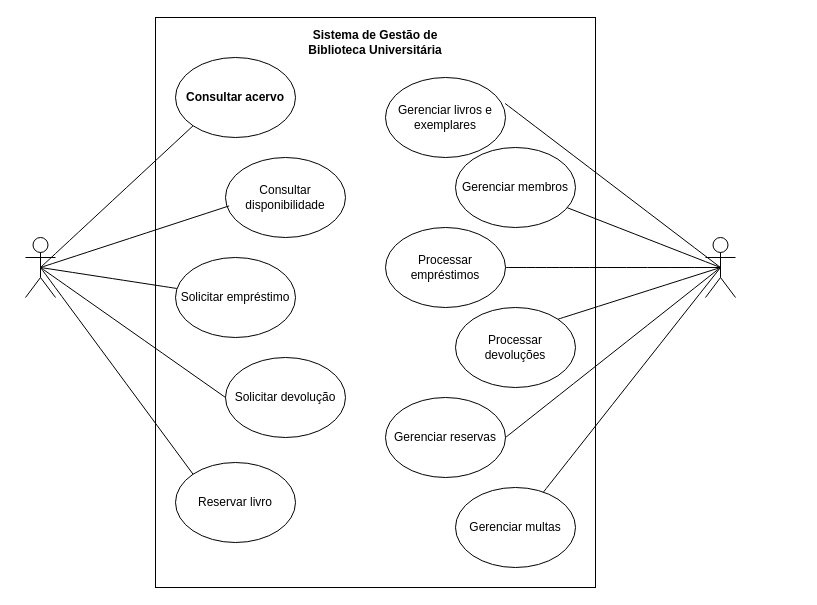
The diagram is 817 pixels wide and 605 high, and some of its shapes have lost their labels. The shapes that lost their labels are listed below. From the top down, each one's box as (x1, y1, x2, y2) in pixels, then its label:
(24, 236, 56, 298): Membro
(704, 236, 736, 298): Bibliotecário/Administrador
